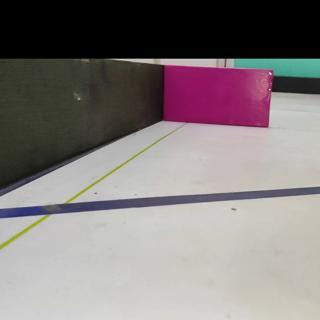xparking: (173, 69, 270, 125)
